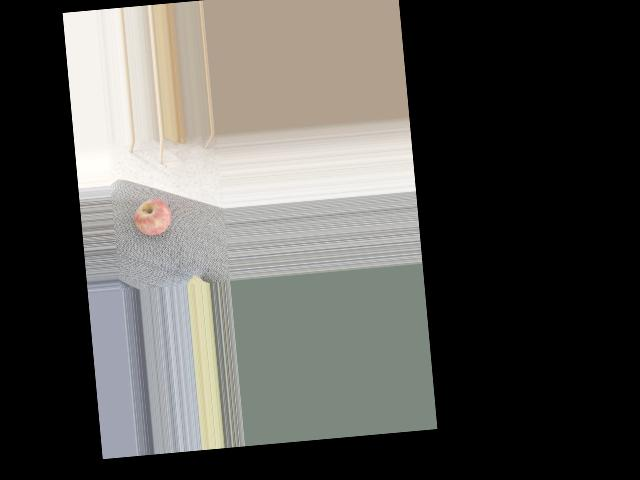apple: (129, 195, 173, 240)
